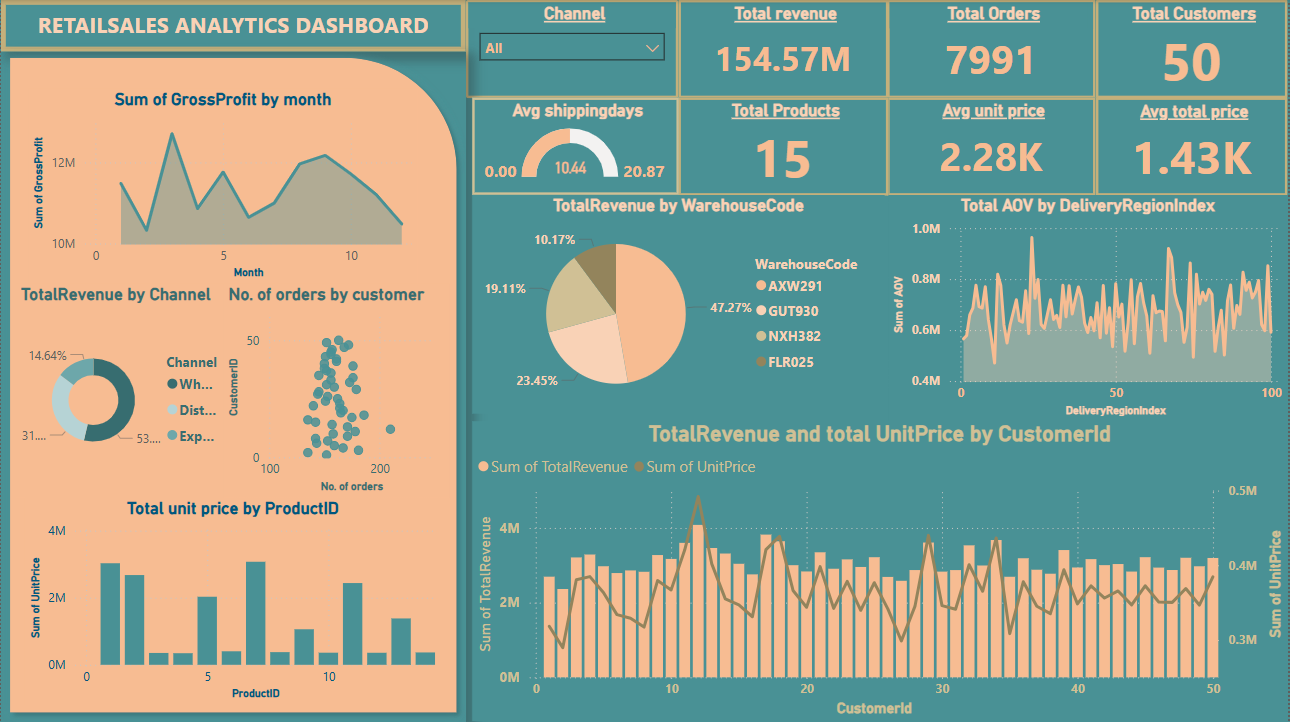

Layout of this report page (visuals, bound fields, positions):
{"tool":"powerbi","page":{"name":"Page 1","canvas":[1280,720],"ordinal":0},"visuals":[{"type":"textbox","box":[0,0,462.8,51],"z":0},{"type":"slicer","title":"Channel","fields":{"Values":["retailsales salesorders.Channel"]},"box":[462.4,0,211.3,97.4],"z":1000},{"type":"card","title":"Total revenue ","fields":{"Values":["retailsales salesorders.Overall_revenue"]},"box":[673.8,0,208.6,97.4],"z":2000},{"type":"card","title":"Total Orders","fields":{"Values":["Query1.Totalorders"]},"box":[882.3,0,207.2,97.4],"z":3000},{"type":"card","title":"Total Customers ","fields":{"Values":["Query1.TotalCustomers"]},"box":[1089.5,0,190.7,97.4],"z":4000},{"type":"card","title":"Avg total price","fields":{"Values":["retailsales salesorders.Avgcost"]},"box":[1089.5,97.4,190.7,97.4],"z":5000},{"type":"card","title":"Avg unit price ","fields":{"Values":["retailsales salesorders.Avgunit"]},"box":[882.3,97.4,207.2,97.4],"z":6000},{"type":"card","title":"Total Products","fields":{"Values":["retailsales products.totalproducts"]},"box":[673.8,97.4,208.6,97.4],"z":7000},{"type":"shape","box":[0,48.5,462.8,669.3],"z":8000},{"type":"lineChart","fields":{"Category":["Query2.month"],"Y":["Sum(Query2.GrossProfit)"]},"box":[27.4,88.3,386.9,194.1],"z":9000},{"type":"clusteredColumnChart","title":"Total unit price by ProductID","fields":{"Category":["retailsales salesorders.ProductDescriptionIndex"],"Y":["Sum(retailsales salesorders.UnitPrice)"]},"box":[23.6,495.1,414.2,206.5],"z":10000},{"type":"donutChart","title":"TotalRevenue by Channel","fields":{"Category":["retailsales salesorders.Channel"],"Y":["Sum(retailsales salesorders.TotalRevenue)"]},"box":[14.9,282.4,216.4,212.7],"z":11000},{"type":"scatterChart","title":"No. of orders by customer","fields":{"X":["CountNonNull(retailsales salesorders.OrderQuantity)"],"Y":["retailsales salesorders.CustomerNameIndex"]},"box":[221.4,282.4,225.2,212.7],"z":12000},{"type":"lineClusteredColumnComboChart","title":" TotalRevenue and total UnitPrice by CustomerId","fields":{"Category":["retailsales salesorders.CustomerNameIndex"],"Y":["Sum(retailsales salesorders.TotalRevenue)"],"Y2":["Sum(retailsales salesorders.UnitPrice)"]},"box":[469,419.2,811.1,298.6],"z":13000},{"type":"stackedAreaChart","title":"Total AOV by DeliveryRegionIndex","fields":{"Y":["Sum(Query3.AOV)"],"Category":["Query3.DeliveryRegionIndex"]},"box":[883.2,194.1,396.8,225.2],"z":14000},{"type":"gauge","title":"Avg shippingdays ","fields":{"Y":["Avg(retailsales salesorders.Shippingdays)"]},"box":[469,97,205.3,97],"z":15000},{"type":"pieChart","title":"TotalRevenue by WarehouseCode","fields":{"Category":["retailsales salesorders.WarehouseCode"],"Y":["Sum(retailsales salesorders.TotalRevenue)"]},"box":[469,194.1,410.5,217.7],"z":16000}]}

Visuals, with their boxes in screenshot pixels (x1, y1, x2, y2), scaled from the page's 1280x720 canvas onto the 1290x722 screenshot:
textbox: <region>0, 0, 466, 51</region>
"Channel" slicer: <region>466, 0, 679, 98</region>
"Total revenue " card: <region>679, 0, 889, 98</region>
"Total Orders" card: <region>889, 0, 1098, 98</region>
"Total Customers " card: <region>1098, 0, 1289, 98</region>
"Avg total price" card: <region>1098, 98, 1289, 195</region>
"Avg unit price " card: <region>889, 98, 1098, 195</region>
"Total Products" card: <region>679, 98, 889, 195</region>
shape: <region>0, 49, 466, 720</region>
lineChart - Query2.month x Sum(Query2.GrossProfit): <region>28, 89, 418, 283</region>
"Total unit price by ProductID" clusteredColumnChart: <region>24, 496, 441, 704</region>
"TotalRevenue by Channel" donutChart: <region>15, 283, 233, 496</region>
"No. of orders by customer" scatterChart: <region>223, 283, 450, 496</region>
" TotalRevenue and total UnitPrice by CustomerId" lineClusteredColumnComboChart: <region>473, 420, 1289, 720</region>
"Total AOV by DeliveryRegionIndex" stackedAreaChart: <region>890, 195, 1289, 420</region>
"Avg shippingdays " gauge: <region>473, 97, 680, 195</region>
"TotalRevenue by WarehouseCode" pieChart: <region>473, 195, 886, 413</region>
